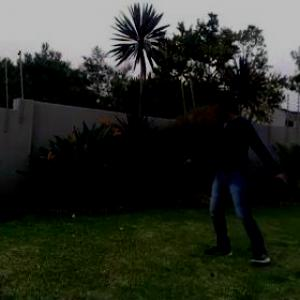land: (174, 83, 294, 280)
